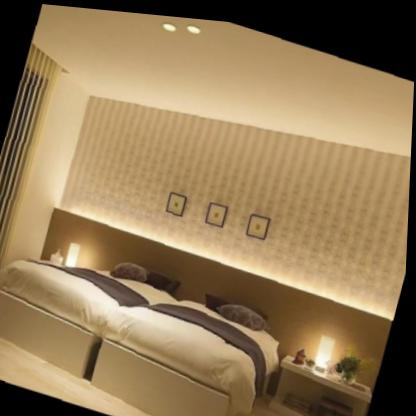Bed: (0, 205, 189, 401), (89, 251, 294, 416)
Frame: (242, 200, 277, 240), (202, 193, 235, 230), (160, 183, 192, 221)
Nightstand: (266, 338, 378, 416)
